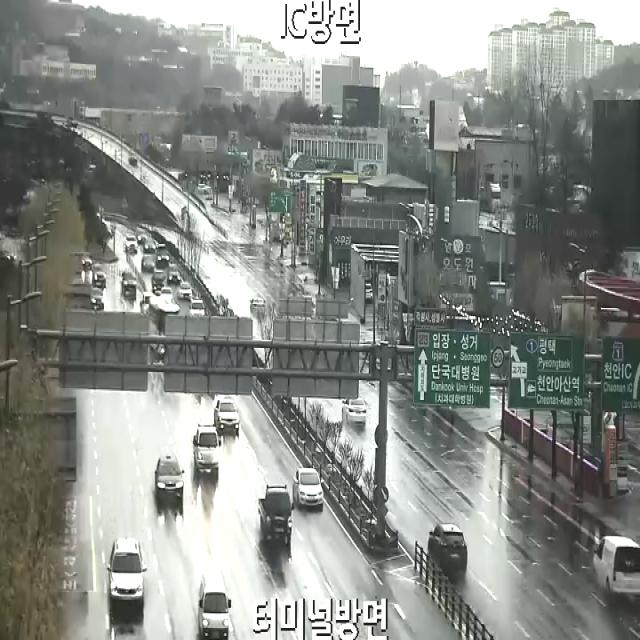Bus: (140, 292, 180, 354)
Car: (593, 537, 640, 595), (106, 538, 148, 601), (198, 571, 231, 640), (428, 523, 468, 572), (155, 456, 185, 500), (294, 469, 324, 506), (214, 399, 239, 434), (342, 398, 367, 427), (122, 271, 136, 295), (93, 264, 106, 288), (92, 287, 104, 310), (189, 298, 205, 315), (152, 272, 165, 292), (156, 244, 169, 264), (168, 262, 181, 281), (124, 236, 138, 253), (250, 298, 266, 312), (179, 283, 192, 300), (141, 256, 155, 271), (144, 238, 156, 252)
Truck: (258, 484, 294, 540), (193, 424, 221, 473)
